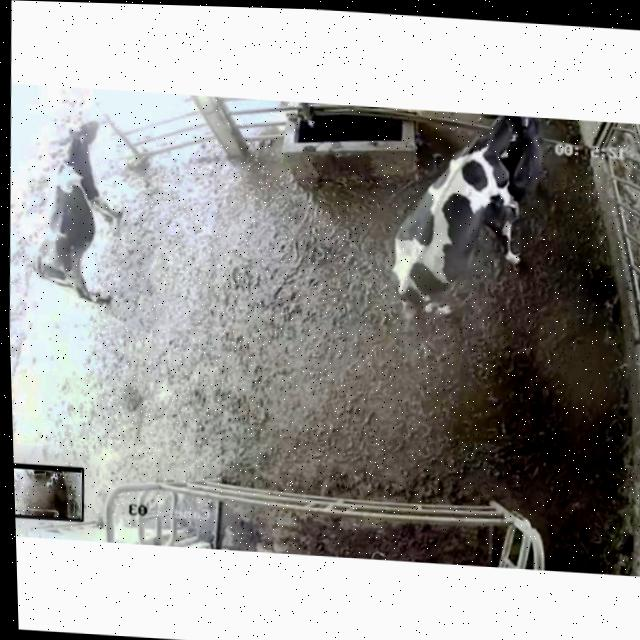ride: (369, 105, 535, 338)
